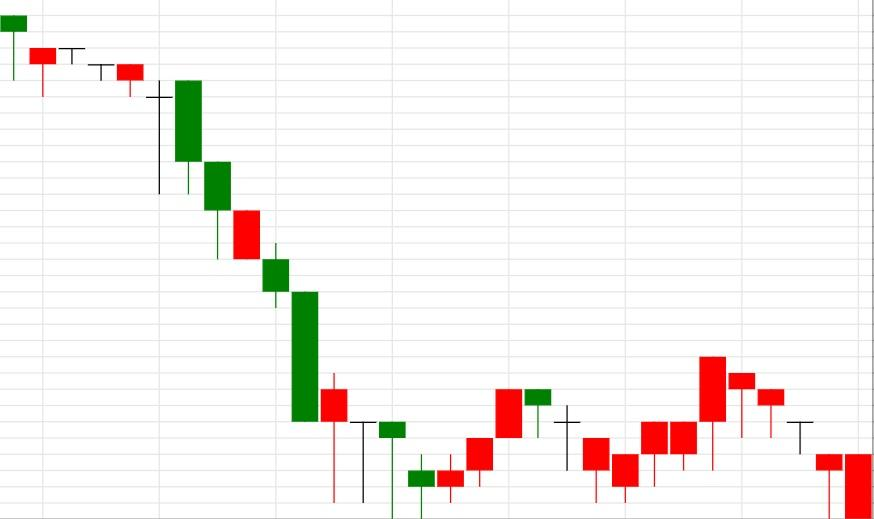three_white_soldiers_rise: (0, 14, 523, 519)
